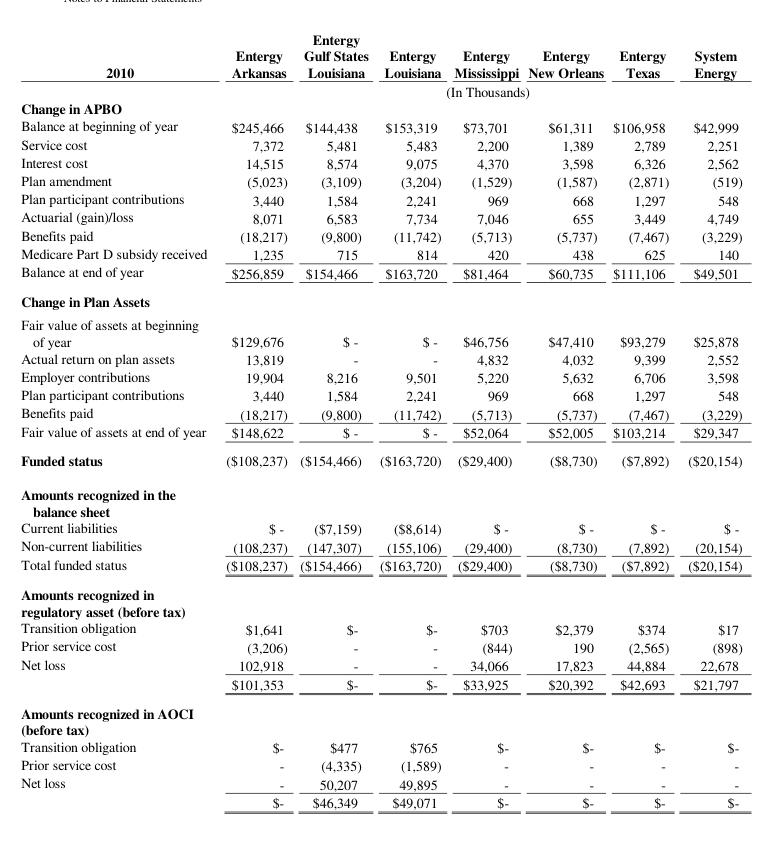table: (20, 29, 741, 811)
table column: (20, 29, 215, 811), (522, 29, 607, 811), (293, 29, 373, 811), (215, 29, 293, 811), (447, 29, 522, 811), (373, 29, 447, 811), (607, 29, 677, 811), (677, 29, 741, 811)
table column header: (20, 29, 741, 98)
table projected row header: (20, 477, 741, 518), (20, 579, 741, 619), (20, 697, 741, 737), (20, 286, 741, 312), (20, 98, 741, 116)
table row: (20, 29, 741, 81), (20, 477, 741, 518), (20, 579, 741, 619), (20, 697, 741, 737), (20, 312, 741, 348), (20, 445, 741, 477), (20, 286, 741, 312), (20, 554, 741, 579), (20, 262, 741, 286), (20, 421, 741, 445), (20, 674, 741, 697), (20, 654, 741, 674), (20, 134, 741, 153), (20, 243, 741, 262), (20, 348, 741, 367), (20, 773, 741, 792), (20, 792, 741, 811), (20, 98, 741, 116), (20, 116, 741, 134), (20, 153, 741, 171), (20, 171, 741, 189), (20, 189, 741, 207), (20, 207, 741, 225), (20, 225, 741, 243), (20, 367, 741, 385), (20, 385, 741, 403), (20, 403, 741, 421), (20, 518, 741, 536), (20, 536, 741, 554), (20, 636, 741, 654), (20, 737, 741, 755), (20, 755, 741, 773), (20, 81, 741, 98), (20, 619, 741, 636)
table spanning cell: (20, 29, 215, 98), (215, 81, 741, 98)
